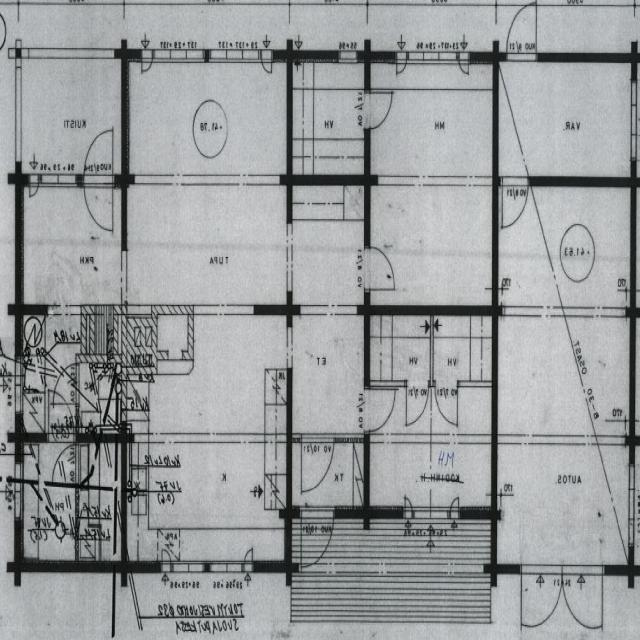door: (562, 563, 603, 640), (522, 563, 562, 640), (301, 506, 334, 572), (302, 433, 334, 497), (84, 174, 113, 237), (84, 125, 113, 187), (507, 3, 536, 61), (364, 247, 396, 290), (49, 389, 74, 442), (503, 174, 528, 226), (364, 390, 394, 430), (53, 364, 79, 403), (435, 381, 458, 424), (53, 445, 79, 483), (364, 92, 391, 128), (407, 381, 429, 424)
